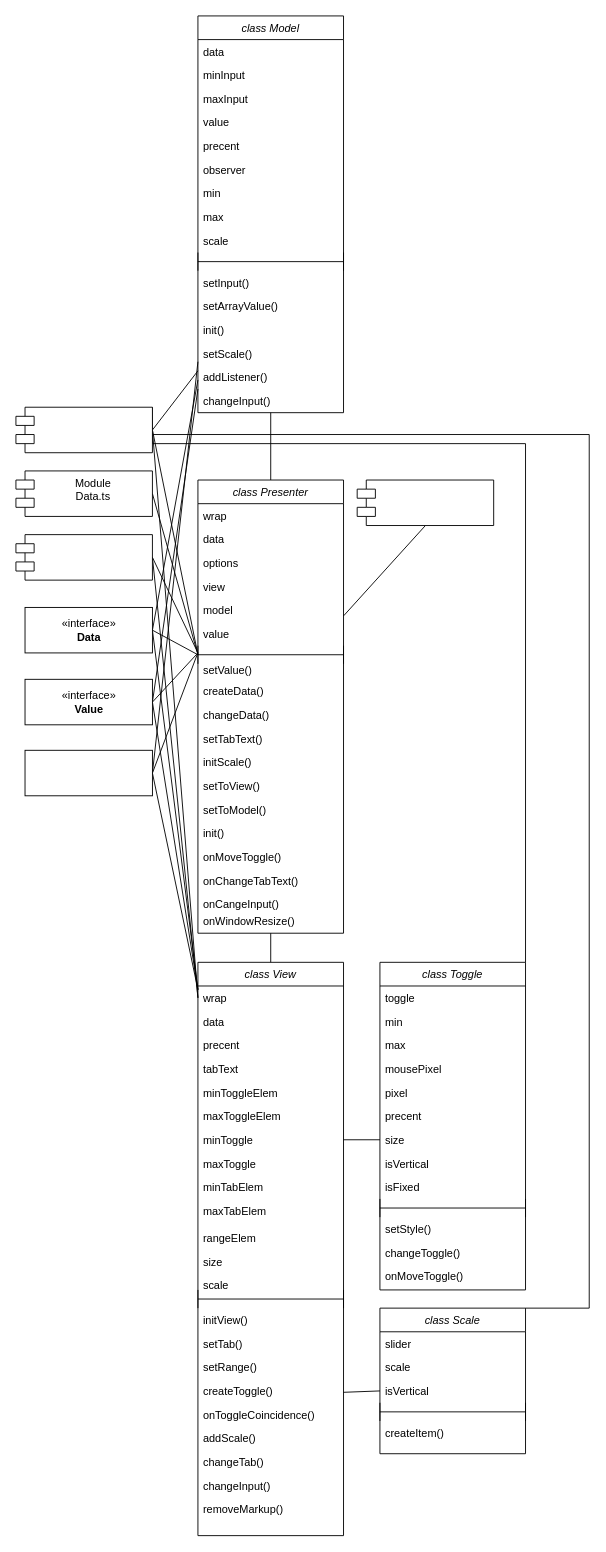
This 606x1552 diagram has some shape labels left out. The centre of each missing label's shape, as x and y in pixels:
"Module Function.ts" goes at point (83, 429).
"Module Index.ts" goes at point (425, 502).
"Module initViewMarkup.ts" goes at point (83, 557).
"«interface» TabText" goes at point (88, 772).
